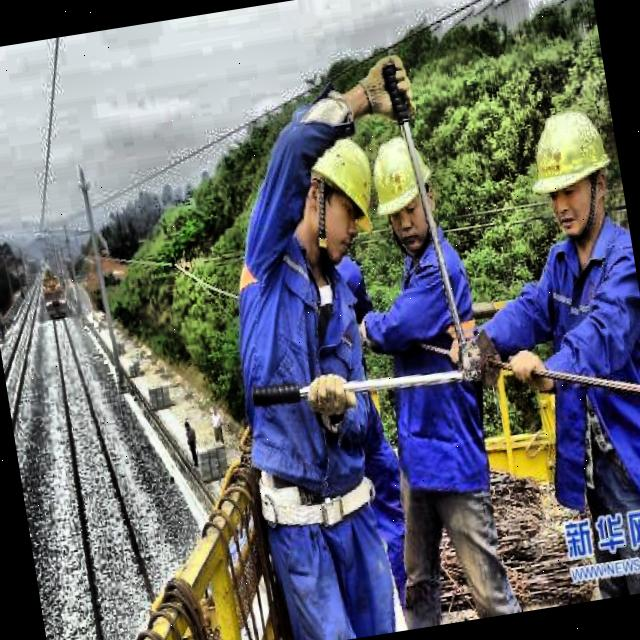helmet: (524, 96, 626, 255), (292, 117, 398, 266), (361, 120, 437, 266)
